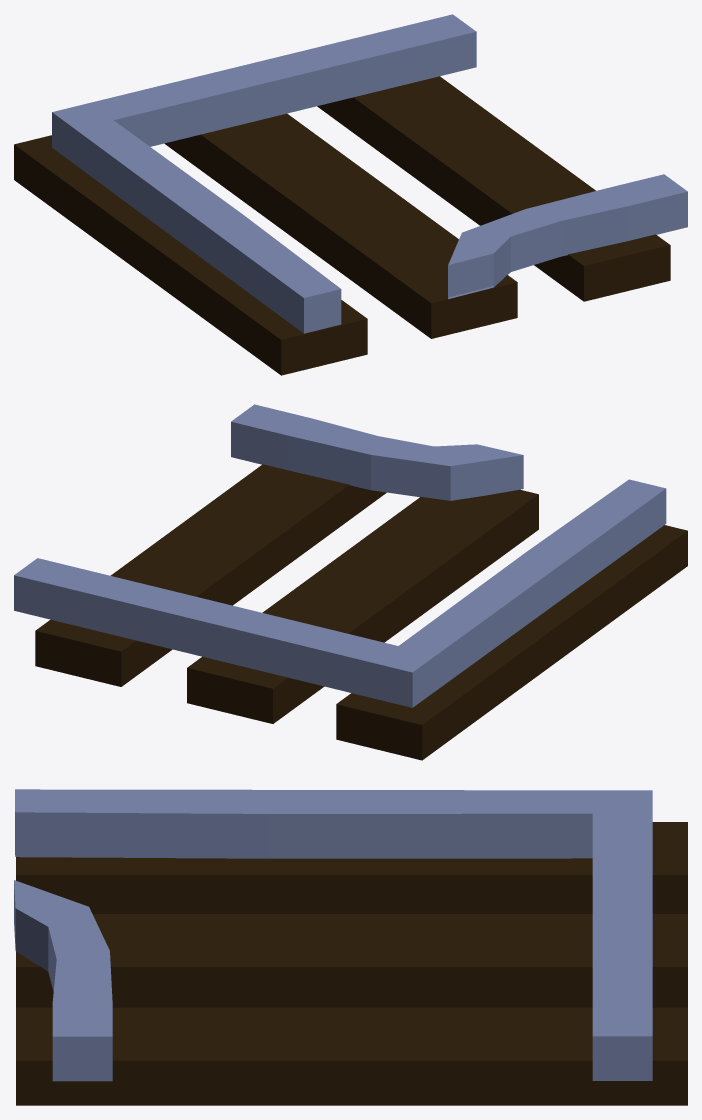
File: track_corner.obj
The picture shows the model from 3 angles, top to bottom: view 1: azimuth 30°, elevation 25°; view 2: azimuth 150°, elevation 25°; view 3: azimuth 270°, elevation 25°; orthographic projection. The views are drawn at different scales.
Parts seen in each view (by area): view 1: Cube.001, Cube.004, Cube.003, Cube.002, Cube; view 2: Cube.001, Cube.004, Cube.003, Cube.002, Cube; view 3: Cube.003, Cube.001, Cube.004, Cube.002, Cube.
Part boxes in pixels (<box>): Cube.001: <box>52,14,476,333</box>; Cube.004: <box>164,113,517,338</box>; Cube.003: <box>317,76,670,301</box>; Cube.002: <box>14,135,367,375</box>; Cube: <box>448,174,687,299</box>; Cube.001: <box>14,479,666,707</box>; Cube.004: <box>187,489,538,723</box>; Cube.003: <box>35,464,386,686</box>; Cube.002: <box>336,525,687,760</box>; Cube: <box>231,404,523,500</box>; Cube.003: <box>16,1007,687,1105</box>; Cube.001: <box>15,789,652,1080</box>; Cube.004: <box>16,914,687,1007</box>; Cube.002: <box>16,822,687,913</box>; Cube: <box>14,880,112,1081</box>.
Bounding box in the file's own units: 1.83 × 0.2988 × 2.01.
